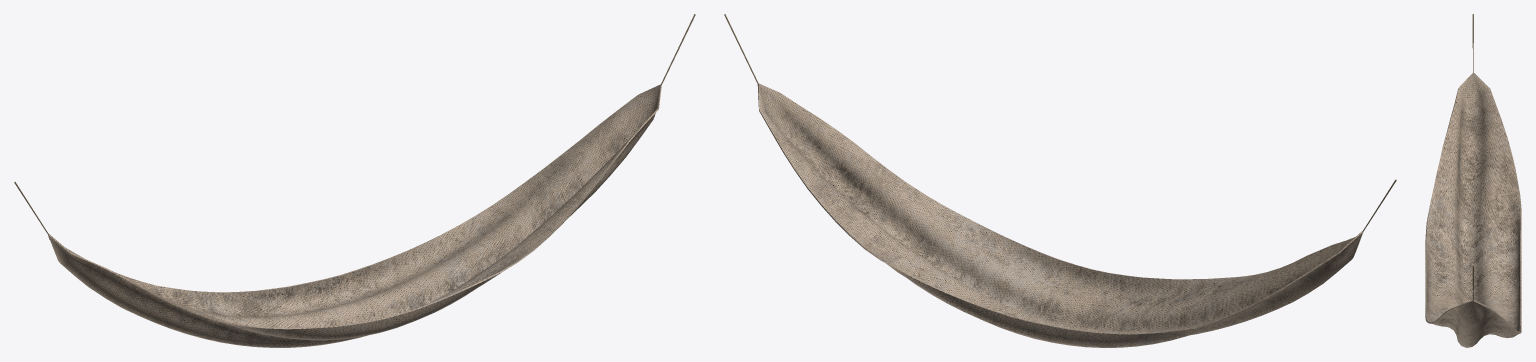
The model's file is Hammock.fbx.
3 views of the same model, side by side, from view 1: azimuth 30°, elevation 25°; view 2: azimuth 150°, elevation 25°; view 3: azimuth 270°, elevation 25° (orthographic). The views are drawn at different scales.
Parts seen in each view (by area): view 1: polySurface3; view 2: polySurface3; view 3: polySurface3.
Part boxes in pixels (x1,y1,x2,y2): polySurface3: [14, 14, 695, 347]; polySurface3: [724, 14, 1396, 347]; polySurface3: [1425, 14, 1521, 347].
Bounding box in the file's own units: 18.84 × 6.3 × 3.02.
1 material, 1 textured.
